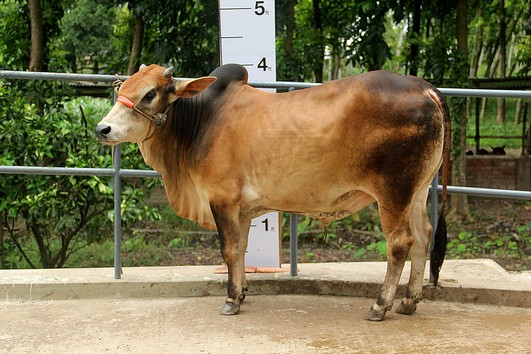cow: (91, 53, 454, 325)
